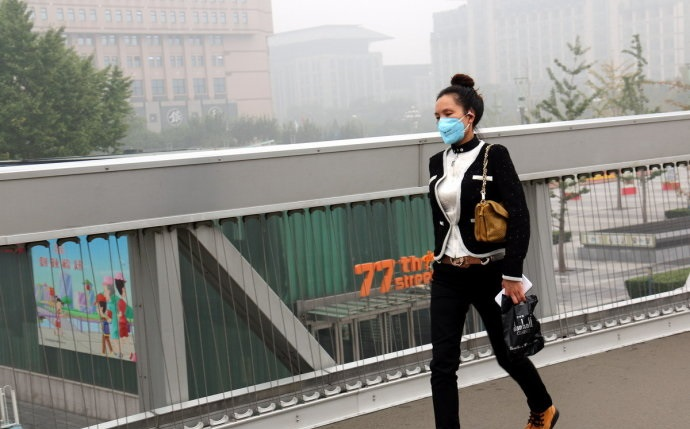face_mask: (435, 98, 467, 144)
